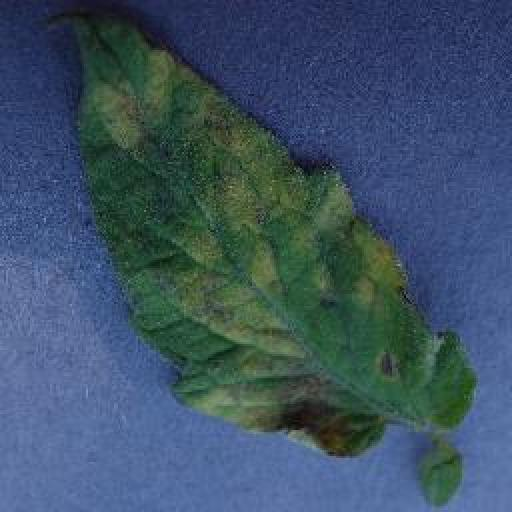Leaf Mold: (63, 8, 483, 459)
